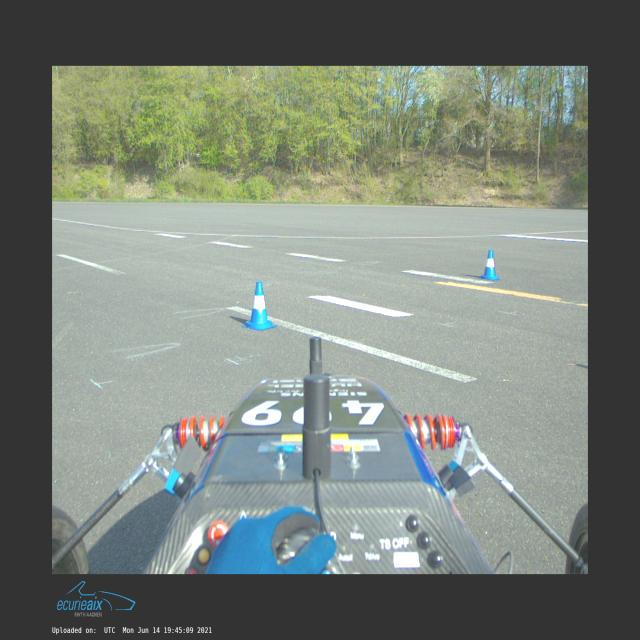blue_cone: (242, 282, 276, 331), (478, 250, 501, 280)
